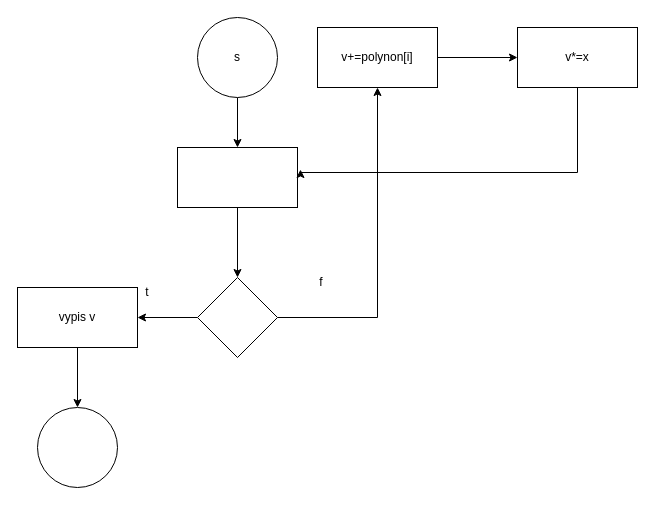
This 655x505 diagram has some shape labels left out. The centre of each missing label's shape, as x and y in pixels:
"existuje polynon [dalsi]" belongs at point (237, 317).
"polynom,x" belongs at point (237, 177).
